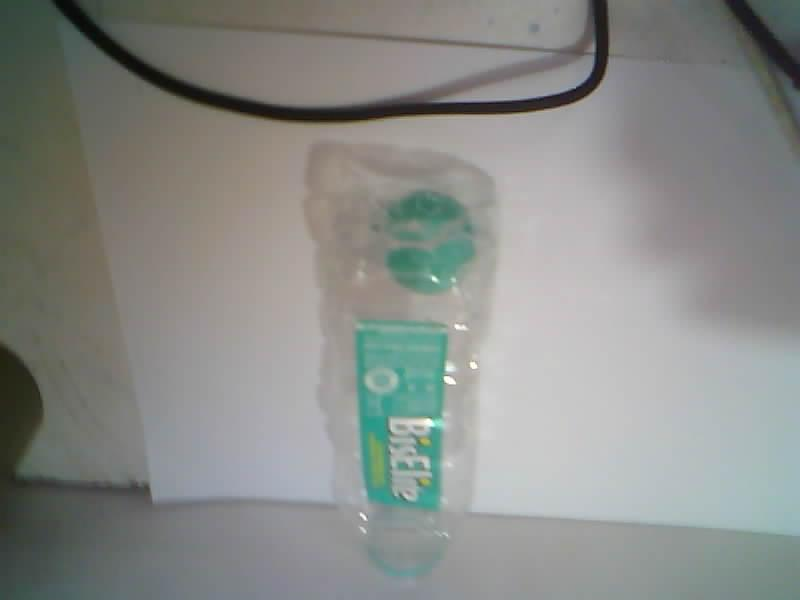non-biodegradable: (306, 146, 496, 578)
